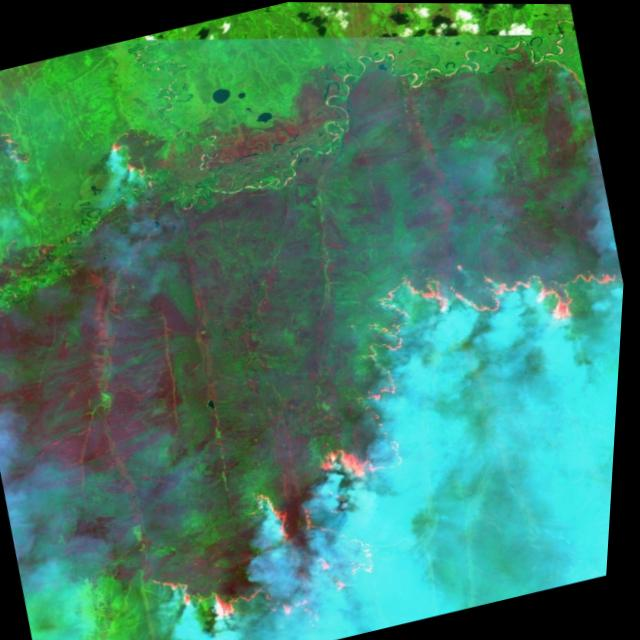fire: (84, 214, 630, 640)
